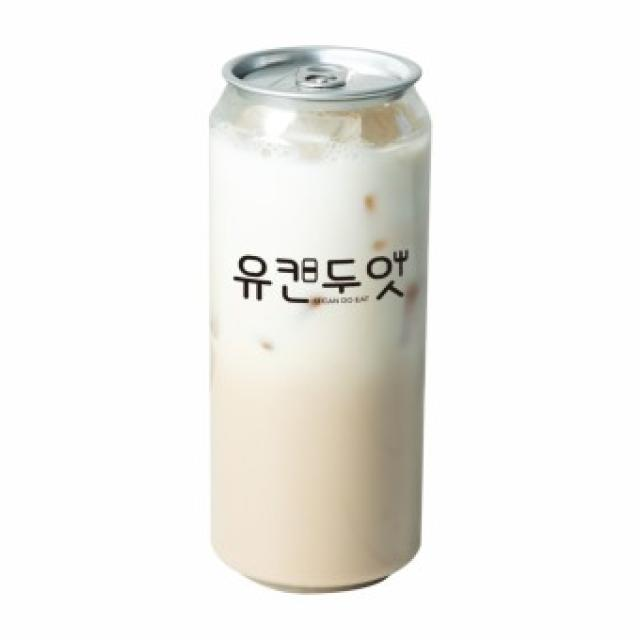can: (204, 46, 430, 602)
